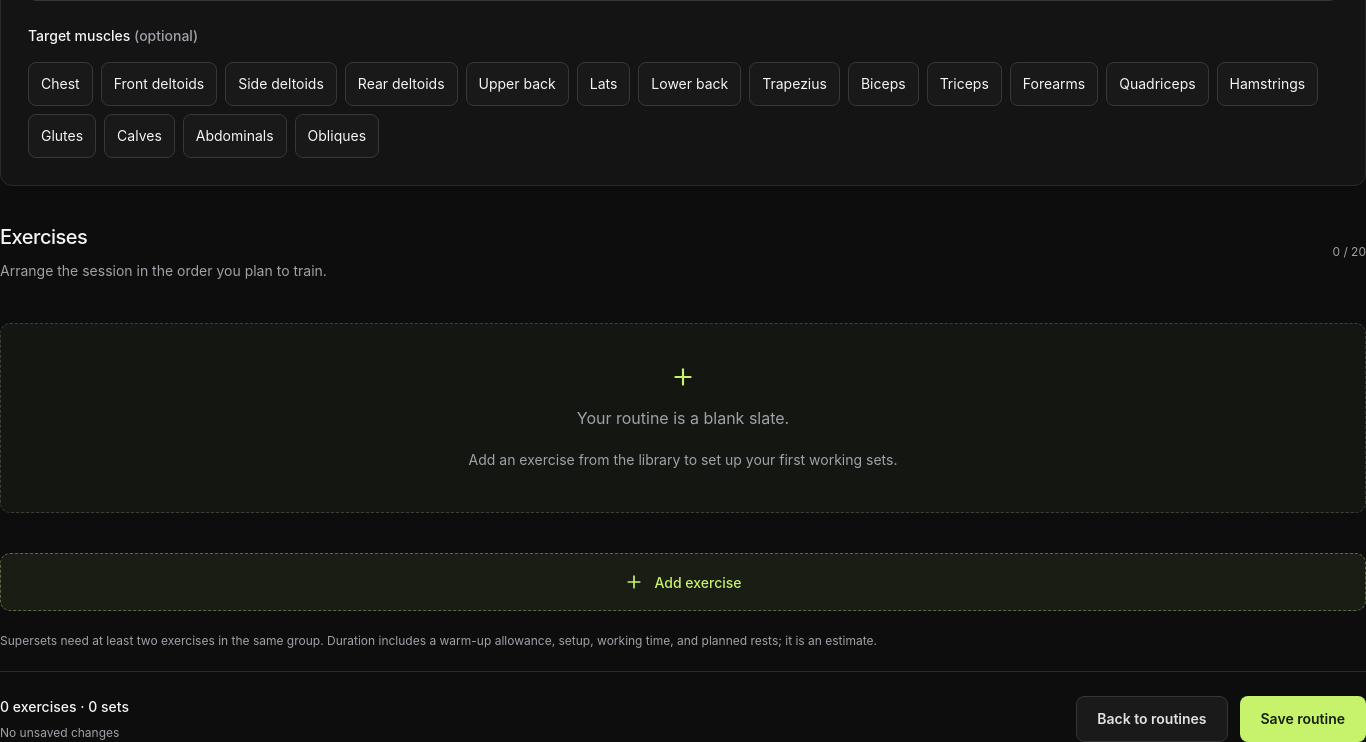
Scenario: Routine builder › restores a custom exercise draft and reuses its identifier after a rejected save
(page scrolled)
What coordinates should you click on to do the following:
click the button "Add exercise"
I would click on:
 (683, 582)
Its box is [0,553,1365,611].
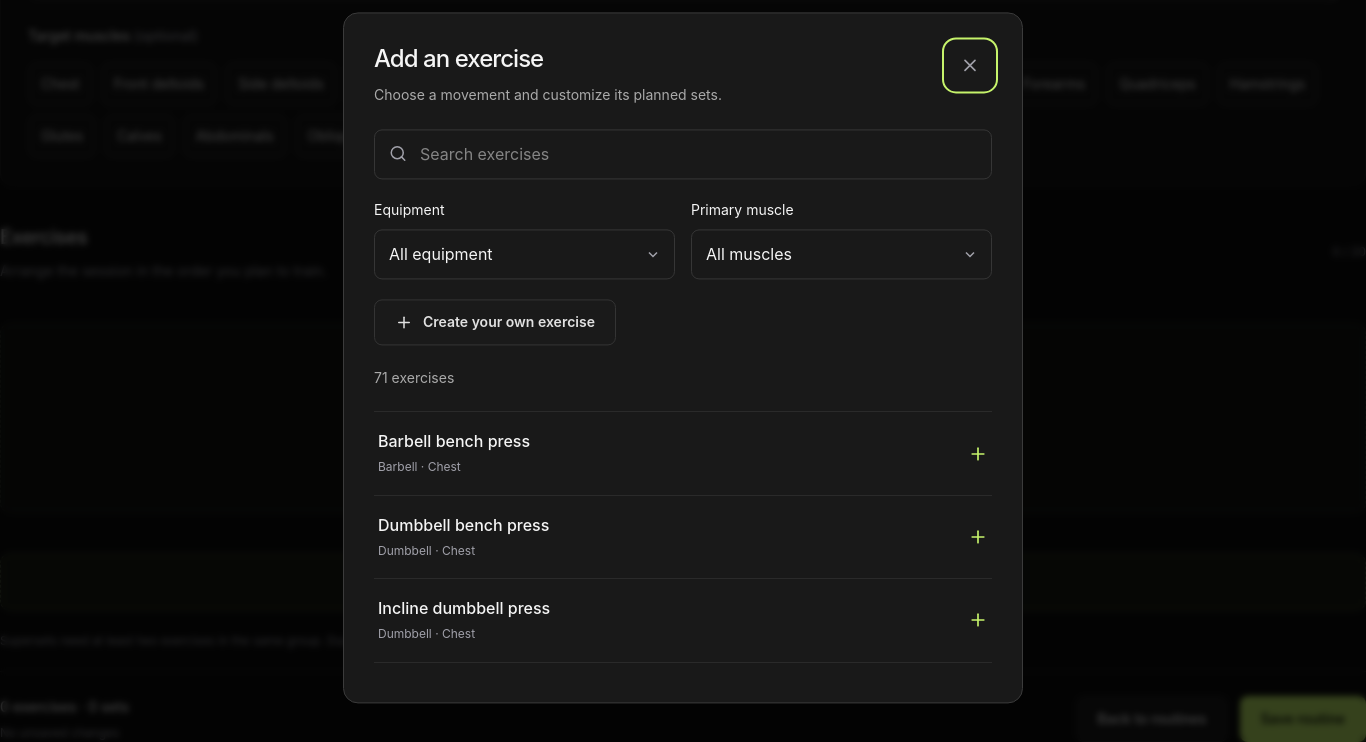
What coordinates should you click on to do the following:
click the button "Create your own exercise"
I would click on:
 (495, 322)
Its box is [374,299,616,345].
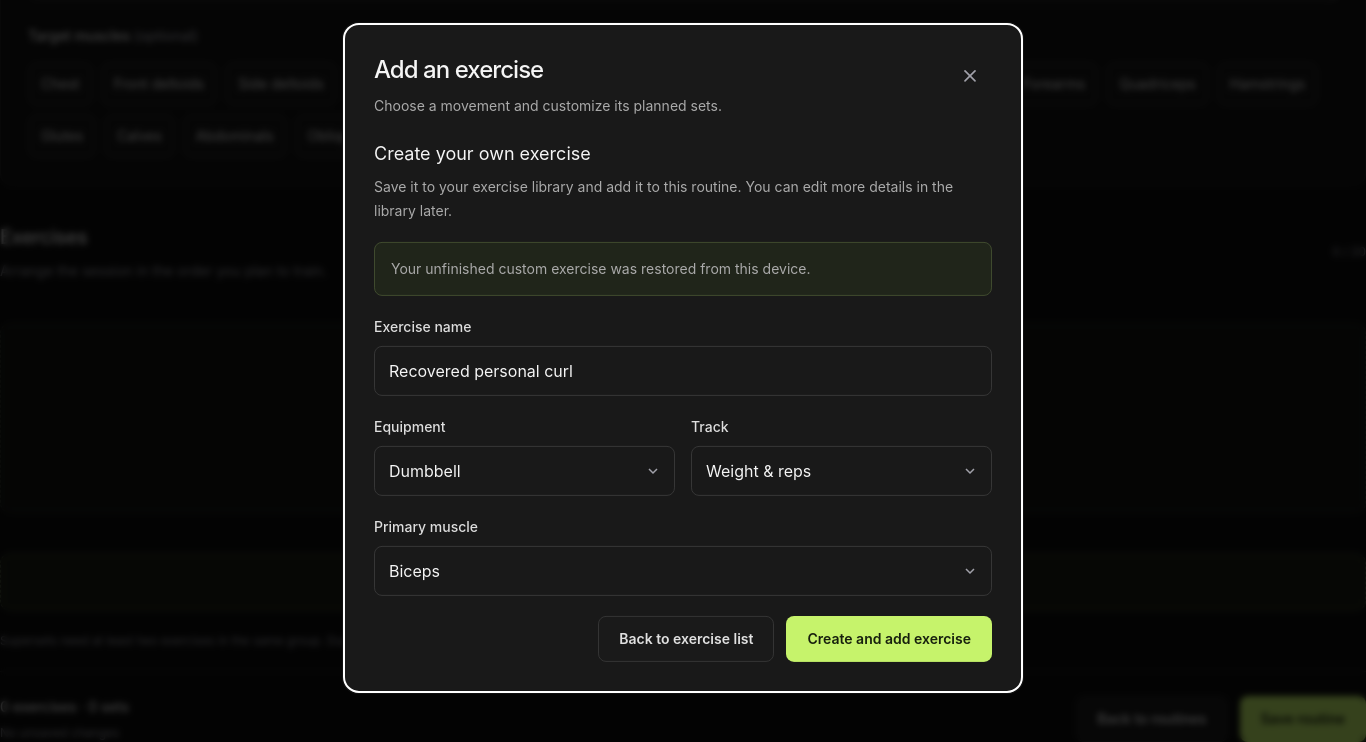
Expected: the field labelled "Exercise name" holds "Recovered personal curl", [374,346,992,396]
Expected: the text "Your unfinished custom exercise was restored from this device." is shown, [374,242,992,296]
What coordinates should you click on to do the following:
click the button "Create and add exercise"
I would click on:
 (889, 639)
Its box is [786,616,992,662].
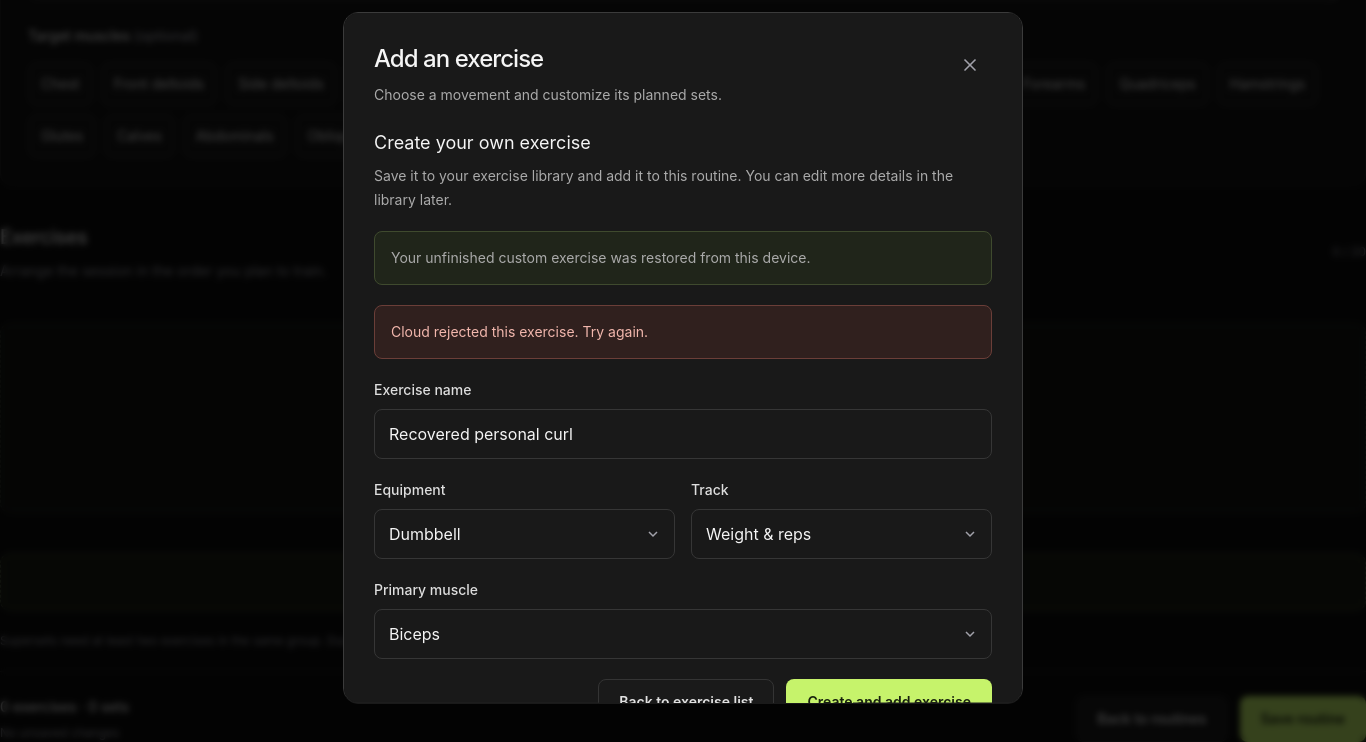
Expected: the field labelled "Exercise name" holds "Recovered personal curl", [374,409,992,459]
Expected: the message "Cloud rejected this exercise. Try again." is shown, [374,306,992,359]
What coordinates should you click on to do the following:
click the button "Create and add exercise"
I would click on:
 (889, 702)
Its box is [786,679,992,725].
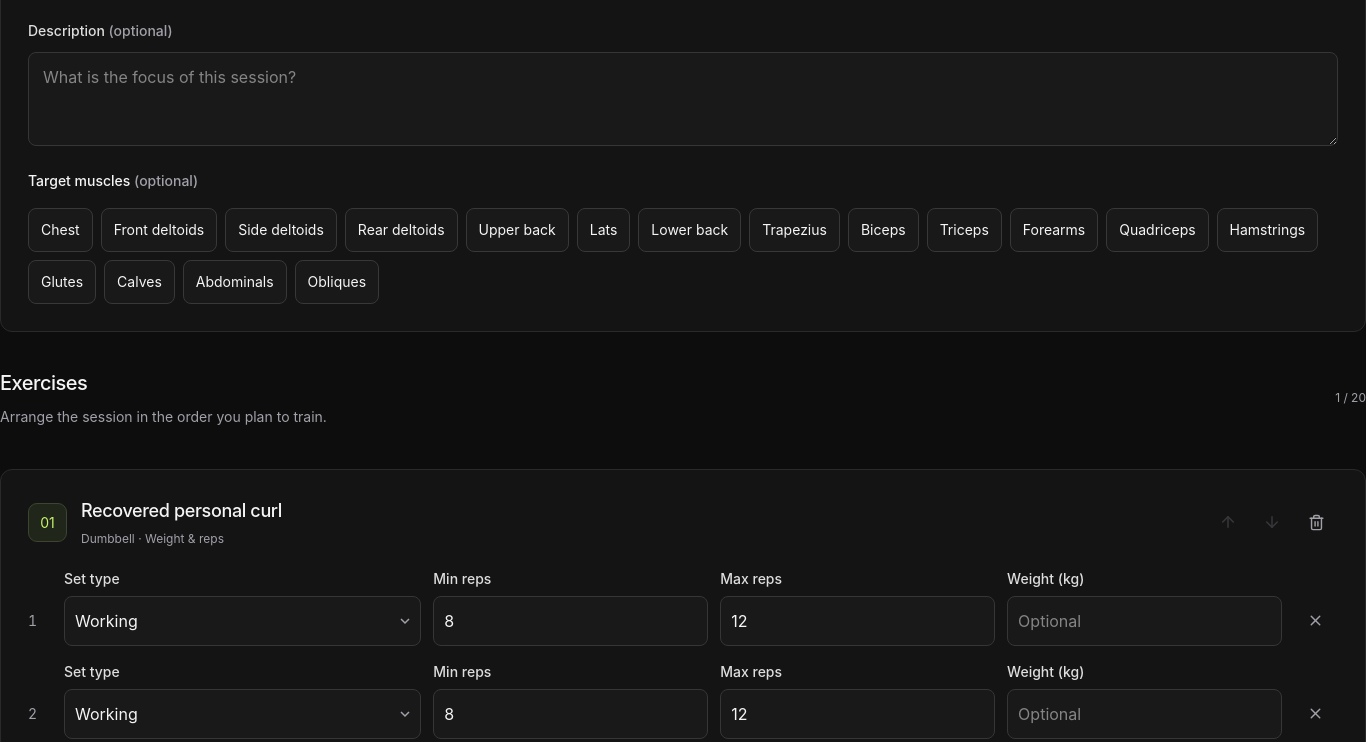
Expected: the dialog is gone
Expected: the heading "Recovered personal curl" is shown, [81,500,282,521]
